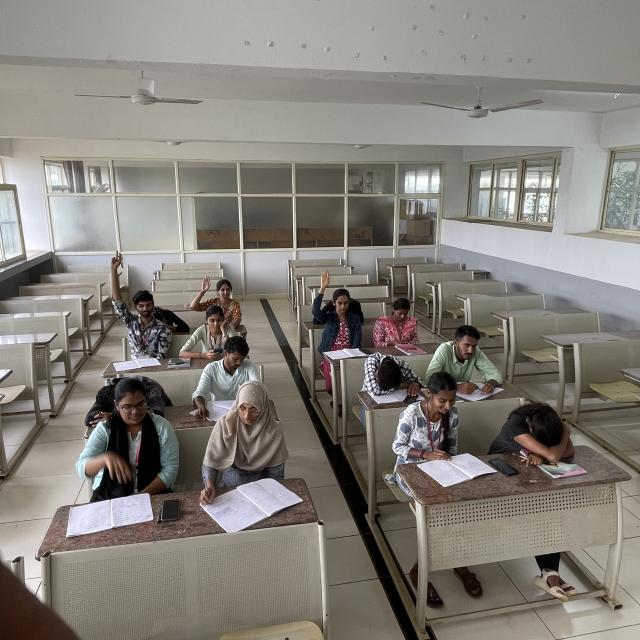Hand Rising: (108, 250, 170, 358), (312, 272, 363, 348), (191, 272, 244, 321)
Reading: (402, 376, 481, 482)
Sleeping: (494, 398, 579, 458), (88, 376, 172, 420), (360, 352, 418, 395)
Using Phone: (184, 306, 236, 360), (377, 297, 421, 346)
Writing: (193, 384, 292, 516), (434, 323, 504, 397)
